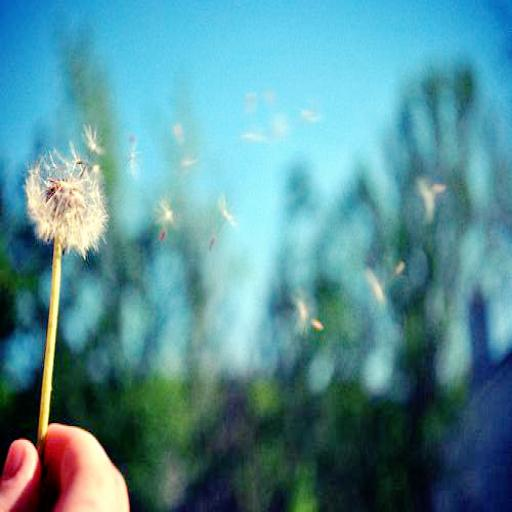dandelion: (26, 127, 104, 247)
